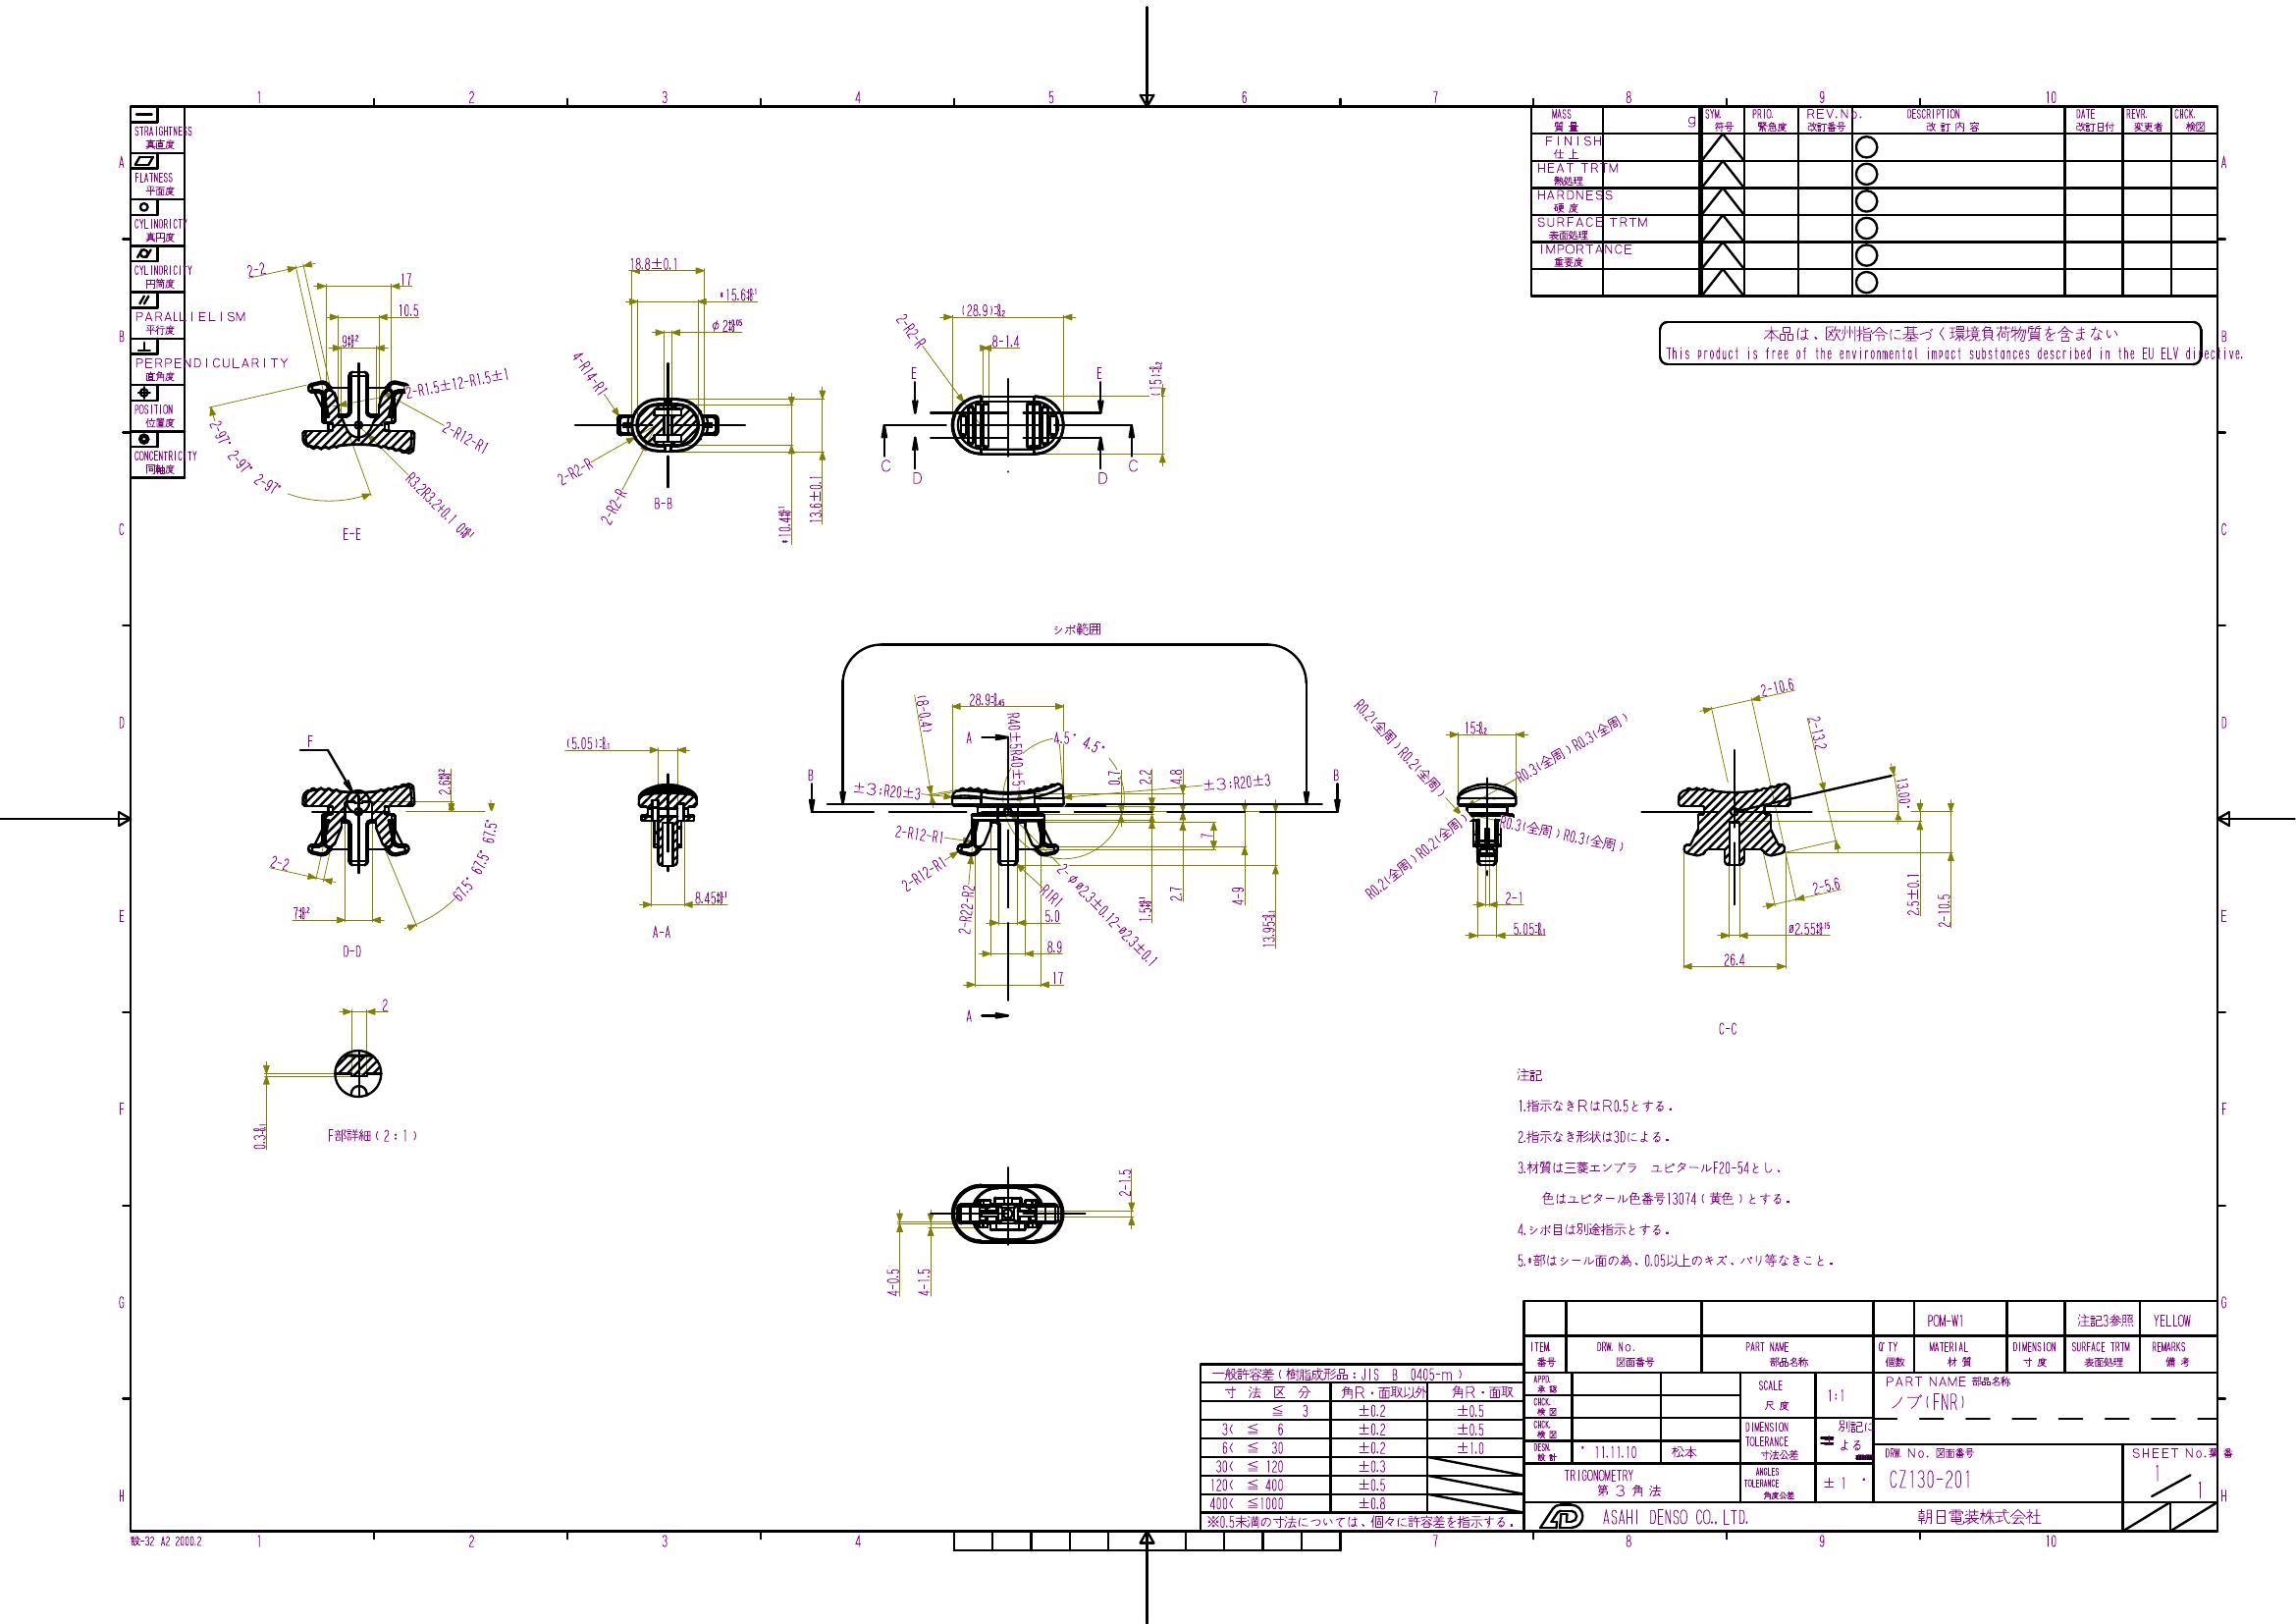anntotation_text: (1513, 1062, 1841, 1269), (1658, 320, 2245, 366), (321, 1127, 416, 1144), (128, 1533, 206, 1547), (1049, 622, 1103, 634), (648, 492, 678, 511), (648, 923, 675, 942), (1716, 1018, 1739, 1039), (339, 942, 364, 960), (341, 526, 362, 541), (908, 468, 924, 487), (961, 728, 975, 747), (963, 1004, 975, 1025), (1326, 765, 1340, 782), (878, 455, 892, 473), (1126, 455, 1138, 475), (304, 731, 316, 749), (1096, 471, 1108, 487), (908, 364, 919, 381), (1094, 364, 1105, 381), (806, 765, 815, 784)
dimension_text: (1491, 824, 1627, 844), (1036, 905, 1175, 923), (1332, 738, 1467, 756), (1507, 738, 1637, 756), (1351, 849, 1476, 866), (195, 448, 290, 471), (430, 849, 523, 872), (404, 374, 509, 392), (1005, 710, 1024, 789), (393, 497, 485, 513), (852, 780, 922, 800), (957, 297, 1008, 320), (805, 471, 826, 526), (1052, 729, 1107, 750), (938, 900, 996, 919), (1203, 773, 1272, 789), (562, 364, 617, 381), (898, 865, 949, 882), (629, 255, 680, 272), (963, 689, 1008, 708), (1903, 872, 1922, 917), (715, 283, 759, 302), (564, 733, 611, 750), (1258, 909, 1277, 951), (592, 496, 634, 515), (1755, 677, 1797, 696), (891, 824, 942, 840), (1934, 889, 1953, 930), (552, 464, 599, 480), (1785, 919, 1832, 935), (690, 888, 729, 907), (1808, 714, 1827, 752), (775, 501, 792, 543), (1892, 775, 1913, 810), (889, 323, 933, 339), (441, 431, 490, 445), (987, 329, 1022, 348), (1147, 359, 1165, 397), (1513, 917, 1548, 937), (1116, 1165, 1133, 1200), (1135, 893, 1154, 924), (882, 1267, 901, 1299), (1460, 717, 1491, 736), (708, 316, 745, 332), (915, 1265, 931, 1299), (1809, 877, 1843, 893), (249, 1120, 267, 1149), (903, 707, 945, 719), (436, 766, 450, 798), (1722, 951, 1746, 968), (1036, 889, 1063, 905), (290, 905, 313, 923), (1228, 884, 1245, 905), (1040, 907, 1063, 923), (397, 301, 420, 316), (1043, 937, 1063, 954), (1165, 884, 1184, 902), (339, 332, 360, 348), (1105, 766, 1121, 787), (244, 262, 267, 276), (1166, 766, 1182, 786), (1137, 766, 1152, 786), (399, 269, 415, 288), (269, 856, 288, 872), (1504, 891, 1525, 905), (374, 997, 390, 1014), (1049, 968, 1066, 984), (1196, 830, 1214, 842)
object: (297, 780, 416, 868), (949, 780, 1070, 866), (1676, 782, 1797, 866), (299, 371, 416, 455), (947, 394, 1068, 457), (949, 1181, 1066, 1244), (615, 395, 720, 452), (1453, 782, 1520, 866), (636, 782, 699, 868), (332, 1048, 385, 1098)
title_block: (1521, 1299, 2219, 1534), (1528, 104, 2219, 299), (1198, 1362, 1525, 1534), (128, 104, 186, 480)
